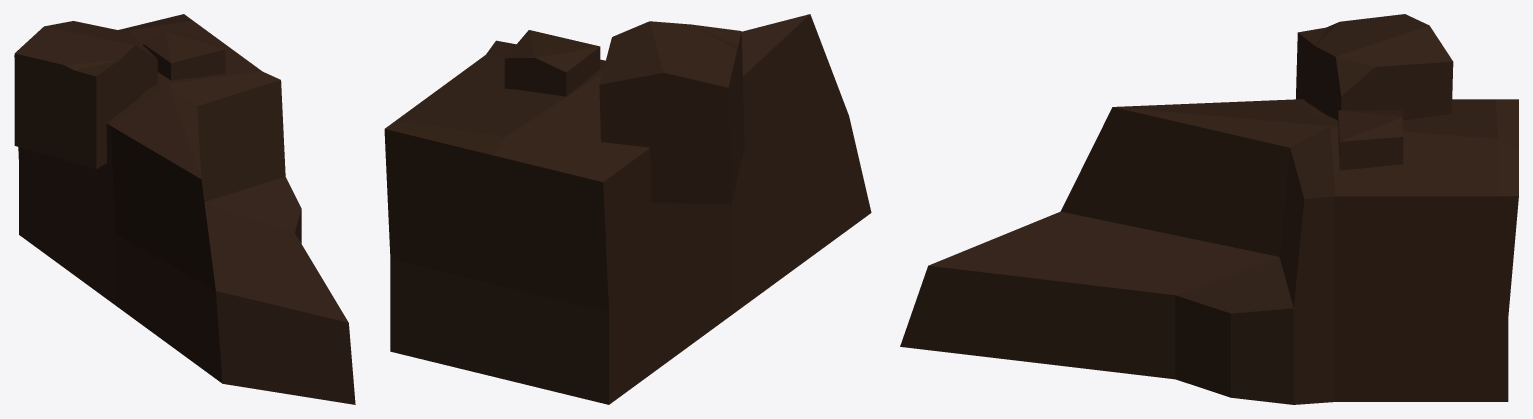
Rendered from rock3.obj.
The picture shows the model from 3 angles, left to right: view 1: azimuth 30°, elevation 25°; view 2: azimuth 150°, elevation 25°; view 3: azimuth 270°, elevation 25°; orthographic projection. The views are drawn at different scales.
Parts seen in each view (by area): view 1: rock3; view 2: rock3; view 3: rock3.
Boxes of the visible parts, bbox=[...] form: rock3: bbox=[14, 14, 355, 404]; rock3: bbox=[384, 14, 871, 404]; rock3: bbox=[900, 14, 1518, 404].
Bounding box in the file's own units: 3.79 × 3.79 × 7.74.
